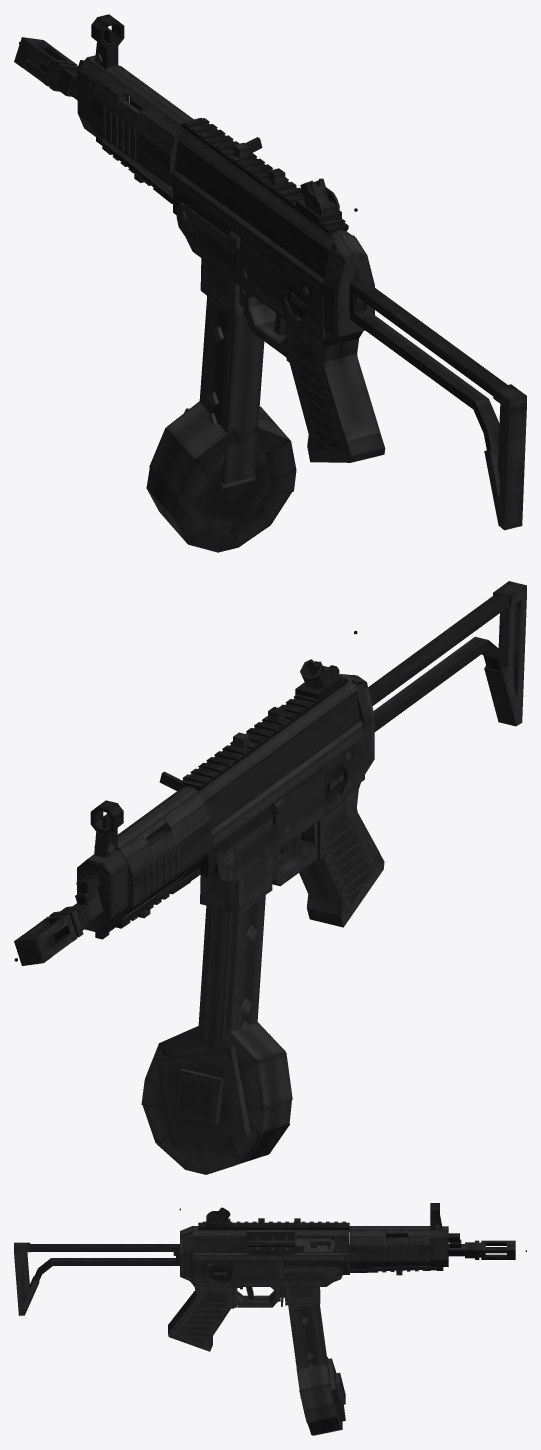
Rendered from a2_famsaf.geo.fbx.
3 views of the same model, one above another, from view 1: azimuth 30°, elevation 25°; view 2: azimuth 150°, elevation 25°; view 3: azimuth 270°, elevation 25° (orthographic). The views are drawn at different scales.
Parts seen in each view (by area): view 1: gun, bone13, stock, handguard, fdsf, bone49, fdsf3, stockadapter, muzzledef, bone24, frontsight, sightback; view 2: gun, bone13, handguard, stock, fdsf3, bone49, fdsf, muzzledef, bone24, stockadapter, frontsight, bone16; view 3: gun, handguard, stock, bone13, bone49, fdsf, bone50, muzzledef, stockadapter, bone52, fdsf3, bone24 (+2 smaller).
Boxes of the visible parts, <box> form: gun: <box>170,118,363,367</box>; bone13: <box>146,401,296,552</box>; stock: <box>332,244,526,530</box>; handguard: <box>75,55,193,186</box>; fdsf: <box>200,296,263,488</box>; bone49: <box>288,347,380,458</box>; fdsf3: <box>199,296,264,451</box>; stockadapter: <box>323,238,374,338</box>; muzzledef: <box>14,37,78,96</box>; bone24: <box>307,433,385,462</box>; frontsight: <box>95,14,118,68</box>; sightback: <box>307,187,339,216</box>; gun: <box>180,674,364,913</box>; bone13: <box>141,1022,292,1174</box>; handguard: <box>75,786,211,939</box>; stock: <box>356,581,526,731</box>; fdsf3: <box>201,899,263,1049</box>; bone49: <box>299,801,379,912</box>; fdsf: <box>198,895,265,1032</box>; muzzledef: <box>14,904,90,965</box>; bone24: <box>306,854,384,927</box>; stockadapter: <box>355,682,374,773</box>; frontsight: <box>94,800,117,857</box>; bone16: <box>114,868,200,928</box>; gun: <box>190,1221,349,1308</box>; handguard: <box>349,1226,461,1270</box>; stock: <box>14,1242,179,1315</box>; bone13: <box>296,1357,345,1435</box>; bone49: <box>172,1290,232,1345</box>; fdsf: <box>288,1304,324,1398</box>; bone50: <box>246,1230,294,1254</box>; muzzledef: <box>465,1240,515,1259</box>; stockadapter: <box>180,1233,193,1281</box>; bone52: <box>295,1236,349,1252</box>; fdsf3: <box>288,1304,327,1364</box>; bone24: <box>168,1319,212,1351</box>.
Size of the model in its own units: 70.46 by 252 by 512.
1 material, 1 textured.
